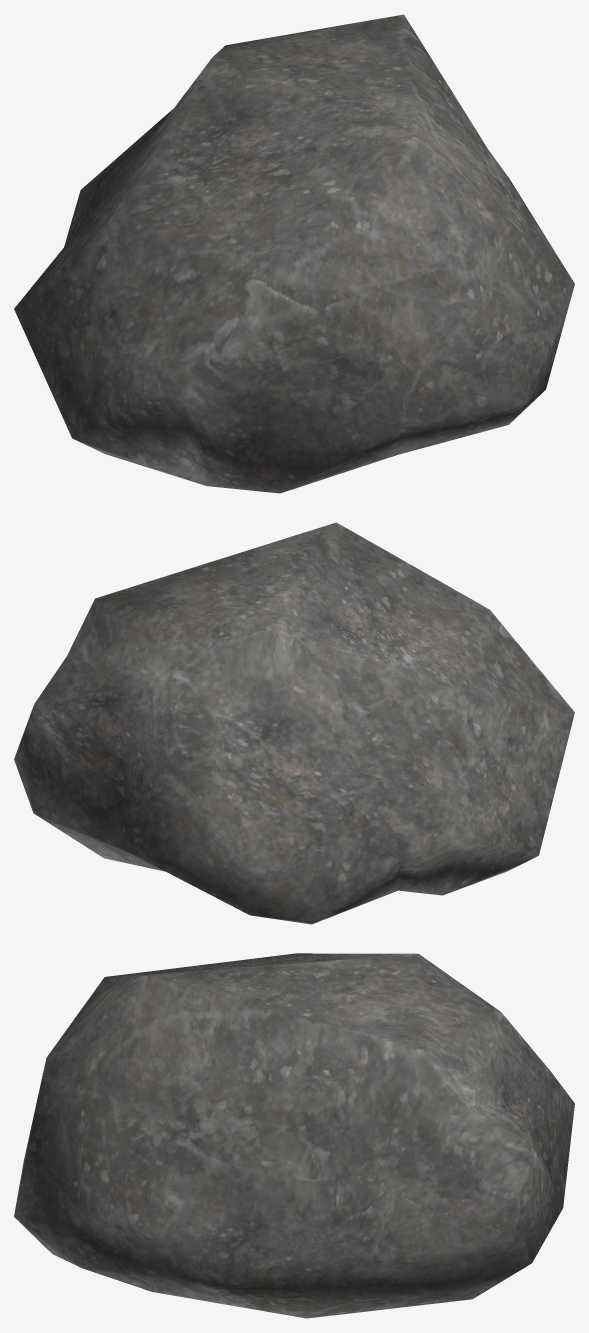
The model's file is objects_un_a_w23rock01_01.gltf.
The picture shows the model from 3 angles, top to bottom: view 1: azimuth 30°, elevation 25°; view 2: azimuth 150°, elevation 25°; view 3: azimuth 270°, elevation 25°; orthographic projection. The views are drawn at different scales.
Visible parts, largest first — view 1: um_objects_un_a_w23rock01_01_model_lod0Shape:objects_un_a_w2; view 2: um_objects_un_a_w23rock01_01_model_lod0Shape:objects_un_a_w2; view 3: um_objects_un_a_w23rock01_01_model_lod0Shape:objects_un_a_w2.
Part boxes in pixels (x1=…): um_objects_un_a_w23rock01_01_model_lod0Shape:objects_un_a_w2: x1=14, y1=14, x2=574, y2=493; um_objects_un_a_w23rock01_01_model_lod0Shape:objects_un_a_w2: x1=14, y1=522, x2=574, y2=924; um_objects_un_a_w23rock01_01_model_lod0Shape:objects_un_a_w2: x1=14, y1=953, x2=574, y2=1318.
Size of what is drawn, in the model's own units: 4.89 by 2.75 by 4.86.
Materials: 2 (1 with a texture image).
